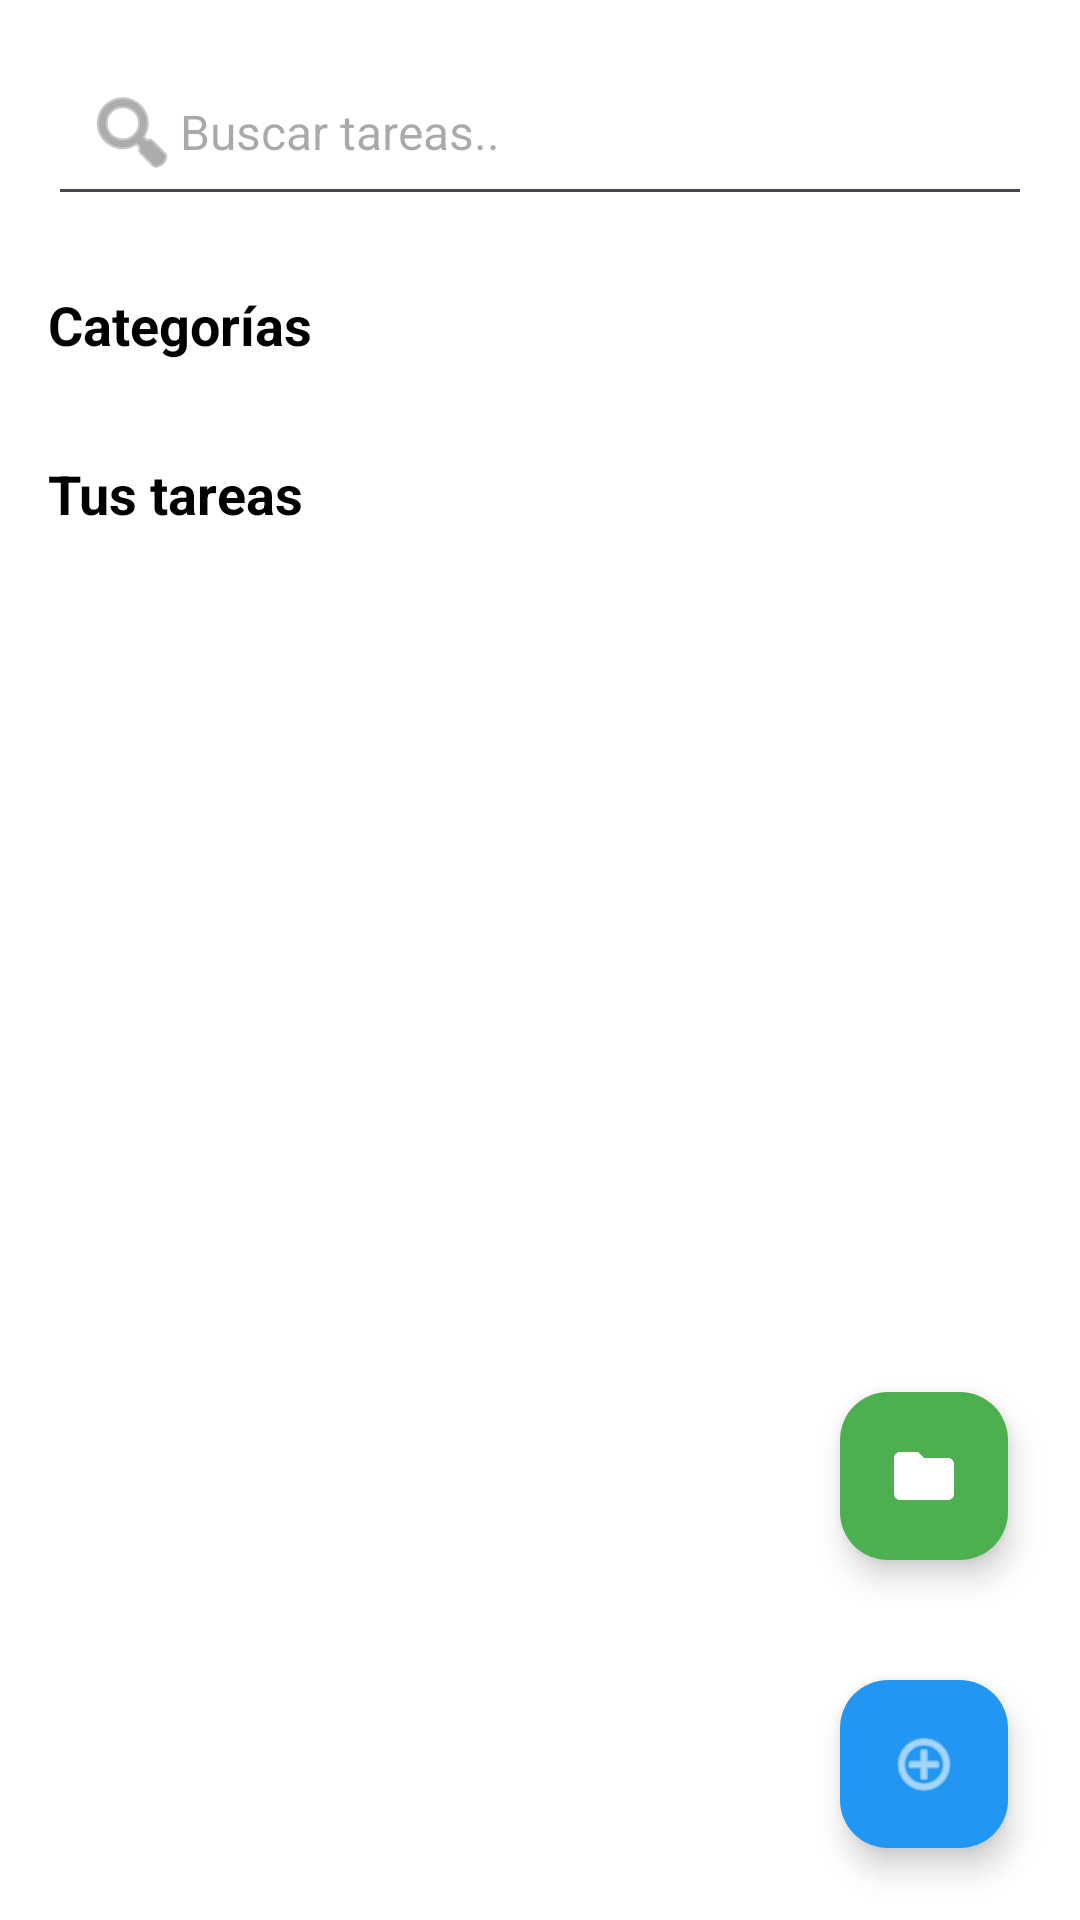

Icons on this 1080px x 1920px Android screen, each with the point to tap as (x,y):
AGREGAR TAREA: (924,1764)
Ir a categorías: (924,1476)
